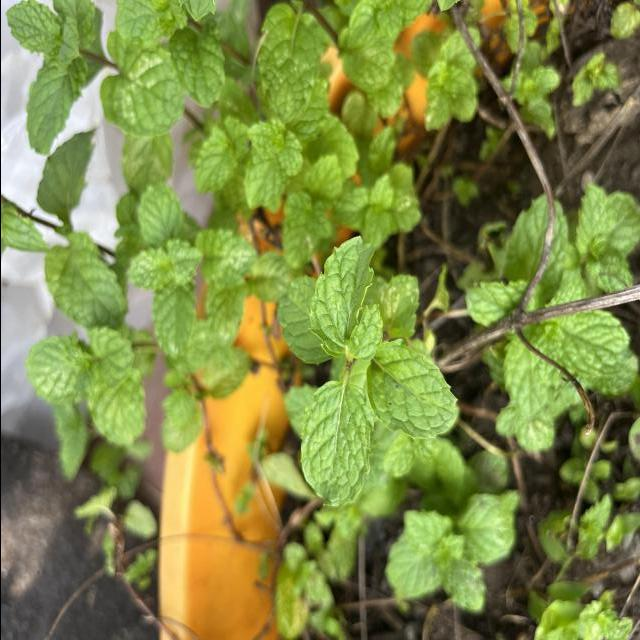Mentha spicata: (298, 378, 375, 509), (364, 336, 459, 442)
